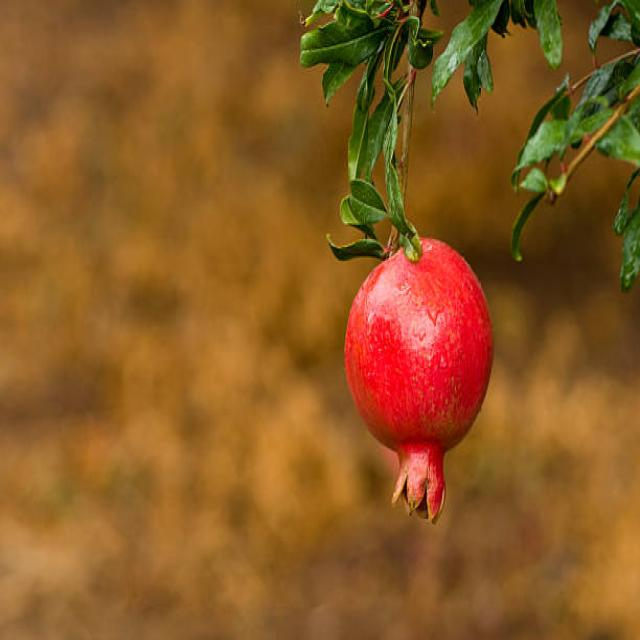Ripe: (343, 236, 496, 533)
